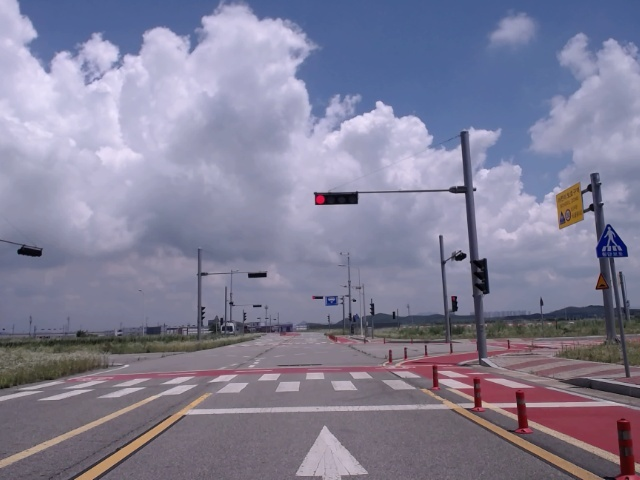red_4: (315, 192, 358, 205)
